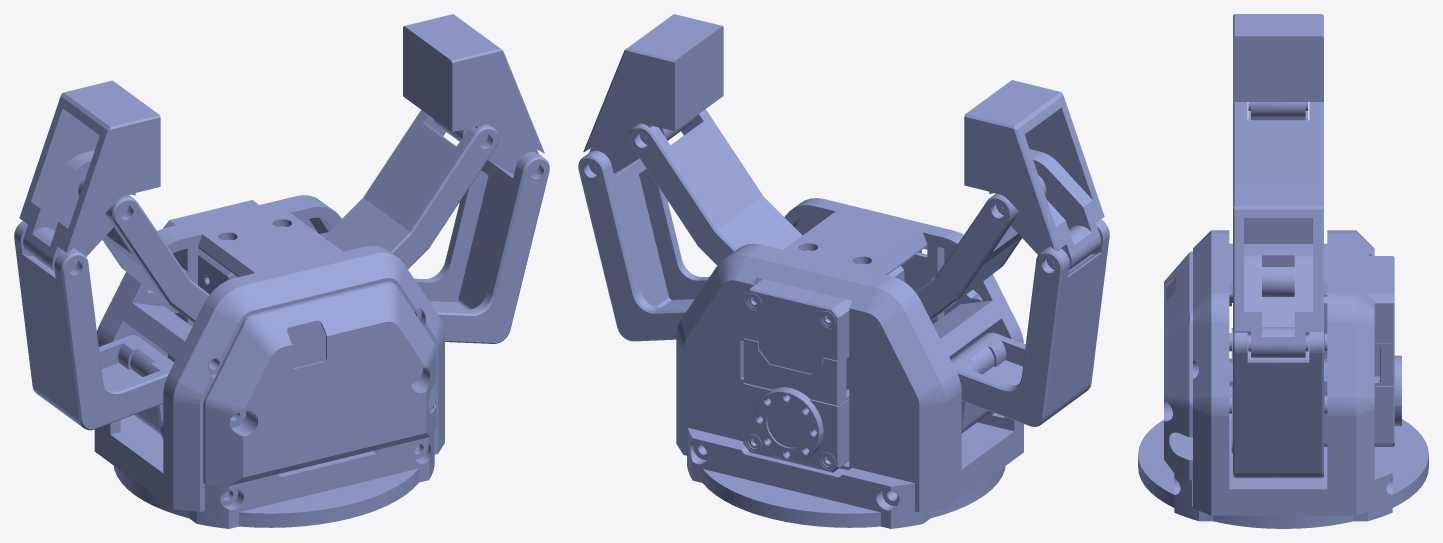
Rendered from ZF-Gripper-V04.dae.
The picture shows the model from 3 angles, left to right: view 1: azimuth 30°, elevation 25°; view 2: azimuth 150°, elevation 25°; view 3: azimuth 270°, elevation 25°; orthographic projection. The views are drawn at different scales.
Visible parts, largest first — view 1: empty_36, empty_33, empty_4, empty_2, empty_25, empty_32, empty_31, empty_27, empty_26, empty_3, empty_5, empty_30; view 2: empty_31, empty_4, empty_2, empty_5, empty_25, empty_32, empty_26, empty_27, empty_33, empty_3, empty_22, empty_30; view 3: empty_31, empty_26, empty_25, empty_33, empty_4, empty_32, empty_3, empty_36, empty_5, empty_22.
Boxes of the visible parts, <box> form: empty_36: <box>203,281,436,486</box>; empty_33: <box>163,213,444,511</box>; empty_4: <box>19,80,160,272</box>; empty_2: <box>14,221,174,434</box>; empty_25: <box>414,151,549,343</box>; empty_32: <box>113,432,434,528</box>; empty_31: <box>94,195,341,508</box>; empty_27: <box>324,110,498,268</box>; empty_26: <box>403,14,544,176</box>; empty_3: <box>102,195,209,322</box>; empty_5: <box>162,200,258,294</box>; empty_30: <box>287,320,325,368</box>; empty_31: <box>676,243,1023,512</box>; empty_4: <box>964,80,1104,270</box>; empty_2: <box>951,219,1109,432</box>; empty_5: <box>743,265,904,472</box>; empty_25: <box>578,150,709,341</box>; empty_32: <box>687,428,1005,528</box>; empty_26: <box>583,14,723,174</box>; empty_27: <box>629,109,802,265</box>; empty_33: <box>783,198,1023,431</box>; empty_3: <box>916,193,1021,320</box>; empty_22: <box>743,338,849,405</box>; empty_30: <box>901,252,927,292</box>; empty_31: <box>1211,230,1374,515</box>; empty_26: <box>1233,183,1323,357</box>; empty_25: <box>1233,331,1323,478</box>; empty_33: <box>1193,230,1327,515</box>; empty_4: <box>1233,14,1323,120</box>; empty_32: <box>1138,419,1428,528</box>; empty_3: <box>1233,102,1323,184</box>; empty_36: <box>1164,251,1192,480</box>; empty_5: <box>1324,256,1401,446</box>; empty_22: <box>1374,343,1394,385</box>.
Bounding box in the file's own units: 144 × 112 × 80.
